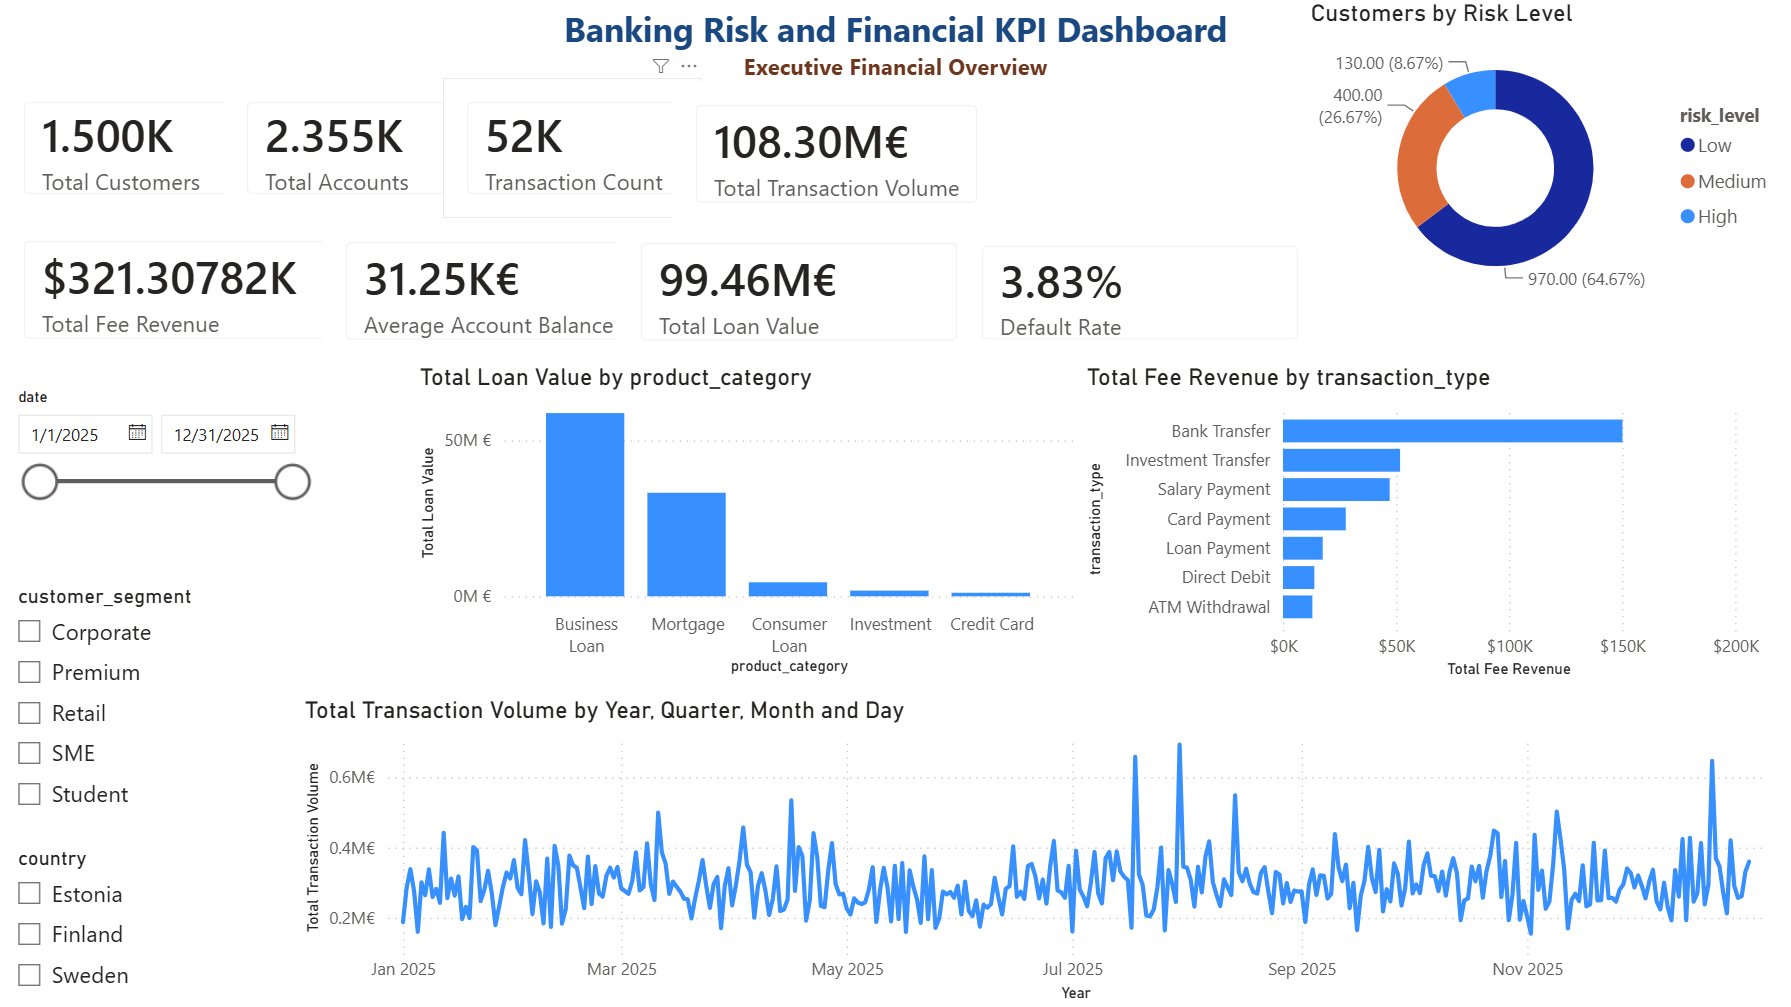

Layout of this report page (visuals, bound fields, positions):
{"tool":"powerbi","page":{"name":"Executive Overview","canvas":[1280,720],"ordinal":0},"visuals":[{"type":"textbox","box":[382.4,0,515.3,79.5],"z":0},{"type":"cardVisual","fields":{"Data":["_Measures.Total Customers"]},"box":[0,56.7,185,100],"z":1000},{"type":"cardVisual","fields":{"Data":["_Measures.Total Accounts"]},"box":[159.2,56.7,185,100],"z":2000},{"type":"cardVisual","fields":{"Data":["_Measures.Transaction Count"]},"box":[316.7,56.7,185,100],"z":3000},{"type":"cardVisual","fields":{"Data":["_Measures.Total Transaction Volume"]},"box":[480,58.3,235,104.2],"z":4000},{"type":"cardVisual","fields":{"Data":["_Measures.Total Fee Revenue"]},"box":[0,155.8,260,104.2],"z":5000},{"type":"cardVisual","fields":{"Data":["_Measures.Average Account Balance"]},"box":[230,156.7,240,104.2],"z":6000},{"type":"cardVisual","fields":{"Data":["_Measures.Total Loan Value"]},"box":[440.8,157.5,260,104.2],"z":7000},{"type":"cardVisual","fields":{"Data":["_Measures.Default Rate"]},"box":[684.2,159.2,260,101.7],"z":8000},{"type":"slicer","fields":{"Values":["calendar.date"]},"box":[0,272.5,230,105.8],"z":9000},{"type":"slicer","fields":{"Values":["branches.country"]},"box":[0,600.8,110,119.2],"z":10000},{"type":"slicer","fields":{"Values":["customers.customer_segment"]},"box":[0,413.3,171.7,174.2],"z":11000},{"type":"lineChart","fields":{"Category":["calendar.date.Variation.Date Hierarchy.Year","calendar.date.Variation.Date Hierarchy.Quarter","calendar.date.Variation.Date Hierarchy.Month","calendar.date.Variation.Date Hierarchy.Day"],"Y":["_Measures.Total Transaction Volume"]},"box":[212.5,497.5,1067.5,222.5],"z":12000},{"type":"clusteredBarChart","fields":{"Category":["transactions.transaction_type"],"Y":["_Measures.Total Fee Revenue"]},"box":[771.7,260,490,229.2],"z":13000},{"type":"donutChart","title":"Customers by Risk Level","fields":{"Category":["customers.risk_level"],"Y":["_Measures.Total Customers"]},"box":[931.7,0,348.3,222.5],"z":14000},{"type":"clusteredColumnChart","fields":{"Y":["_Measures.Total Loan Value"],"Category":["products.product_category"]},"box":[295,260,476.7,226.7],"z":15000}]}

Visuals, with their boxes in screenshot pixels (x1, y1, x2, y2), scaled from the page's 1280x720 canvas onto the 1791x1007 screenshot:
textbox: region(535, 0, 1256, 111)
cardVisual - _Measures.Total Customers: region(0, 79, 259, 219)
cardVisual - _Measures.Total Accounts: region(223, 79, 482, 219)
cardVisual - _Measures.Transaction Count: region(443, 79, 702, 219)
cardVisual - _Measures.Total Transaction Volume: region(672, 82, 1000, 227)
cardVisual - _Measures.Total Fee Revenue: region(0, 218, 364, 364)
cardVisual - _Measures.Average Account Balance: region(322, 219, 658, 365)
cardVisual - _Measures.Total Loan Value: region(617, 220, 981, 366)
cardVisual - _Measures.Default Rate: region(957, 223, 1321, 365)
slicer - calendar.date: region(0, 381, 322, 529)
slicer - branches.country: region(0, 840, 154, 1006)
slicer - customers.customer_segment: region(0, 578, 240, 822)
lineChart - calendar.date.Variation.Date Hierarchy.Year x calendar.date.Variation.Date Hierarchy.Quarter: region(297, 696, 1790, 1006)
clusteredBarChart - transactions.transaction_type x _Measures.Total Fee Revenue: region(1080, 364, 1765, 684)
"Customers by Risk Level" donutChart: region(1304, 0, 1790, 311)
clusteredColumnChart - _Measures.Total Loan Value x products.product_category: region(413, 364, 1080, 681)
